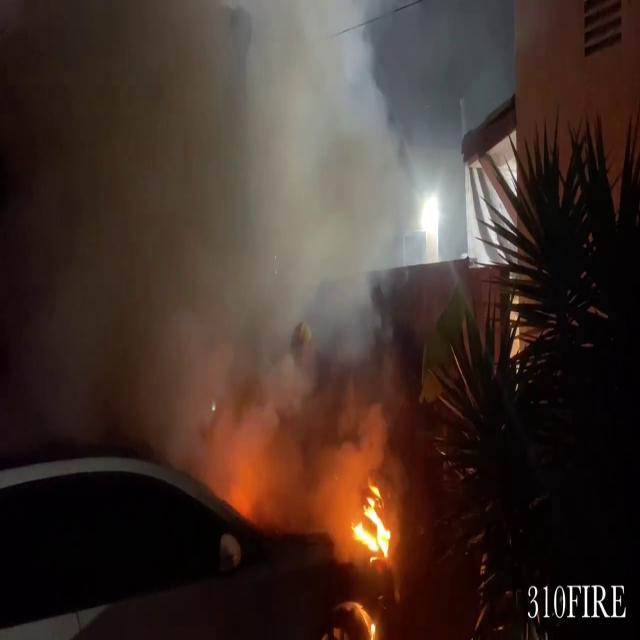Fire: (345, 481, 398, 564)
Smoke: (2, 0, 434, 530)
